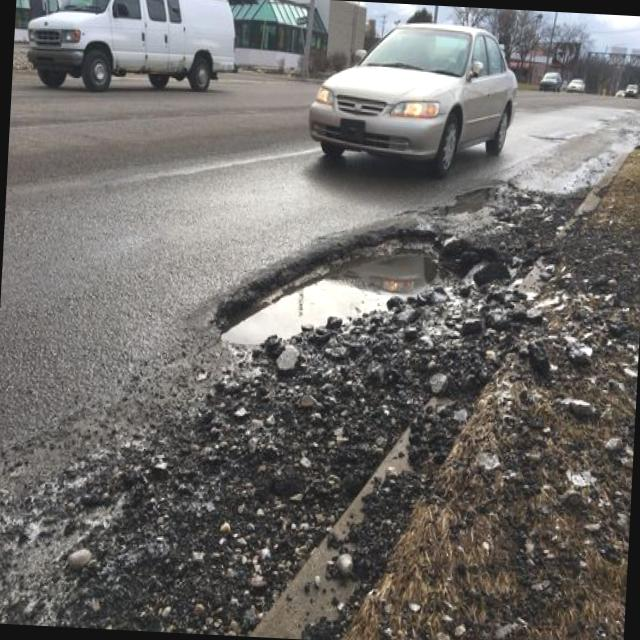bad-road: (211, 214, 512, 362), (420, 176, 508, 223)
